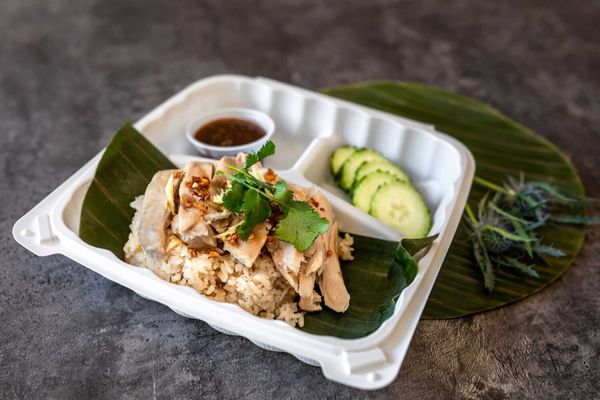soup: (124, 156, 349, 322)
sushi: (37, 72, 475, 391), (184, 106, 276, 163)
